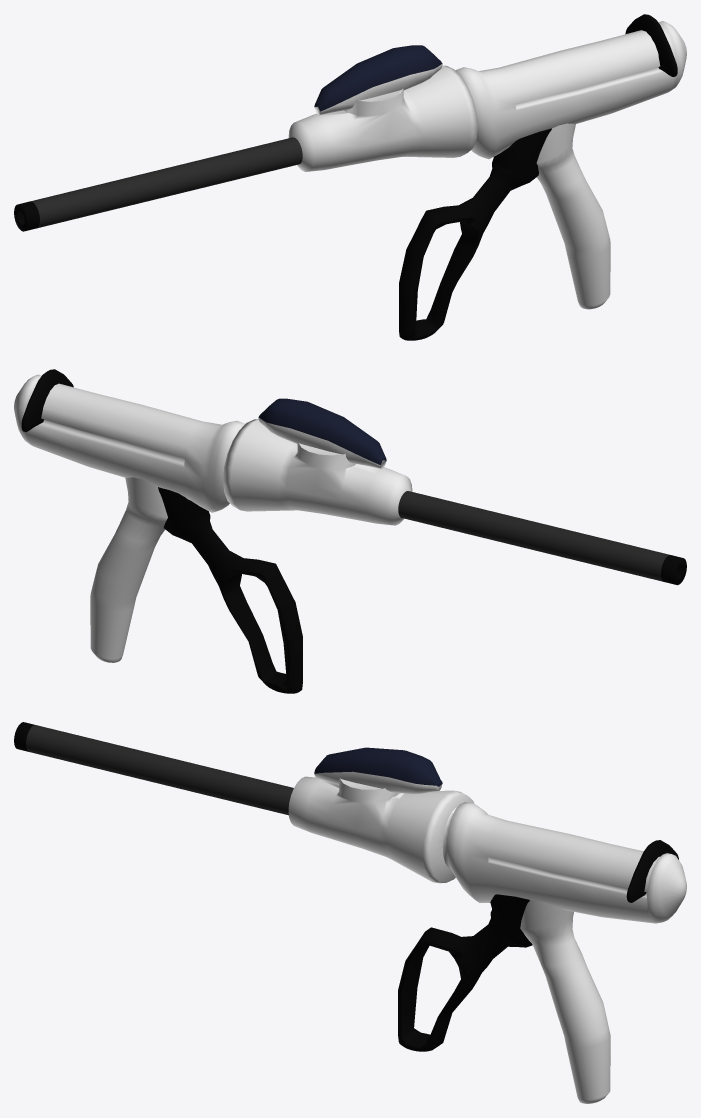
Rendered from grapadora.fbx.
3 views of the same model, one above another, from view 1: azimuth 30°, elevation 25°; view 2: azimuth 150°, elevation 25°; view 3: azimuth 330°, elevation 25° (orthographic).
Parts seen in each view (by area): view 1: pCylinder5, pCylinder2, pCylinder4, pCylinder1, pCylinder3, pCylinder6, pCylinder7; view 2: pCylinder5, pCylinder2, pCylinder4, pCylinder1, pCylinder3, pCylinder6, pCylinder7; view 3: pCylinder5, pCylinder2, pCylinder3, pCylinder1, pCylinder4, pCylinder6, pCylinder7.
Part boxes in pixels (left/top/right/bottom): pCylinder5: left=455, top=21, right=686, bottom=159; pCylinder2: left=288, top=65, right=477, bottom=171; pCylinder4: left=399, top=128, right=551, bottom=340; pCylinder1: left=14, top=137, right=302, bottom=231; pCylinder3: left=536, top=123, right=610, bottom=309; pCylinder6: left=314, top=45, right=442, bottom=115; pCylinder7: left=625, top=14, right=677, bottom=76; pCylinder5: left=14, top=374, right=245, bottom=512; pCylinder2: left=223, top=419, right=412, bottom=525; pCylinder4: left=158, top=487, right=302, bottom=693; pCylinder1: left=398, top=491, right=686, bottom=585; pCylinder3: left=90, top=477, right=167, bottom=662; pCylinder6: left=258, top=398, right=386, bottom=468; pCylinder7: left=21, top=369, right=73, bottom=431; pCylinder5: left=442, top=802, right=686, bottom=923; pCylinder2: left=288, top=776, right=474, bottom=883; pCylinder3: left=520, top=900, right=610, bottom=1103; pCylinder1: left=14, top=722, right=293, bottom=815; pCylinder4: left=398, top=894, right=532, bottom=1051; pCylinder6: left=314, top=747, right=442, bottom=793; pCylinder7: left=626, top=840, right=678, bottom=902.
Size of the model in its own units: 20.74 by 9.06 by 2.68.
